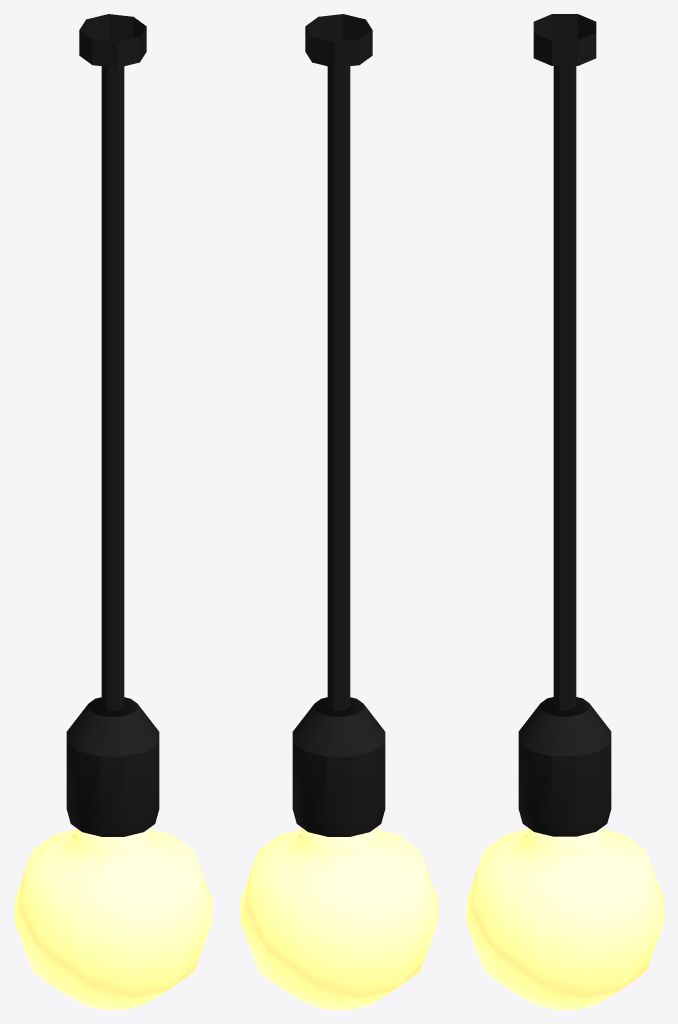
File: foco_calido.glb
3 views of the same model, side by side, from view 1: azimuth 30°, elevation 25°; view 2: azimuth 150°, elevation 25°; view 3: azimuth 270°, elevation 25° (orthographic).
Parts seen in each view (by area): view 1: foco_calido_cuerpo, pieza_lampara; view 2: foco_calido_cuerpo, pieza_lampara; view 3: foco_calido_cuerpo, pieza_lampara.
Part boxes in pixels (x1,y1,x2,y2): foco_calido_cuerpo: (66,14,159,836); pieza_lampara: (14,828,211,1009); foco_calido_cuerpo: (292,14,385,836); pieza_lampara: (240,828,437,1009); foco_calido_cuerpo: (518,14,611,836); pieza_lampara: (466,828,663,1009).
Bounding box in the file's own units: 0.07 × 0.38 × 0.07.
